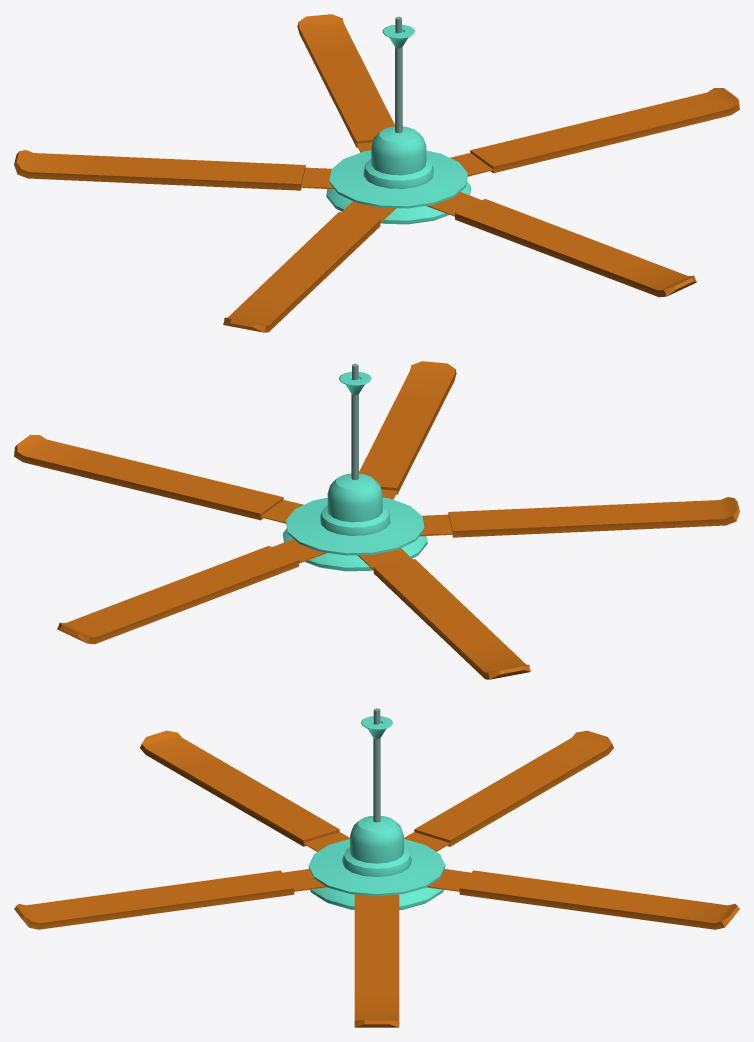
The model's file is fan4.glb.
The picture shows the model from 3 angles, top to bottom: view 1: azimuth 30°, elevation 25°; view 2: azimuth 150°, elevation 25°; view 3: azimuth 270°, elevation 25°; orthographic projection. The views are drawn at different scales.
Visible parts, largest first — view 1: Fan4_Tris; view 2: Fan4_Tris; view 3: Fan4_Tris.
Boxes of the visible parts, <box> form: Fan4_Tris: <box>14,14,739,332</box>; Fan4_Tris: <box>14,361,739,679</box>; Fan4_Tris: <box>14,708,739,1027</box>.
Size of the model in its own units: 7.64 by 2.14 by 8.01.
